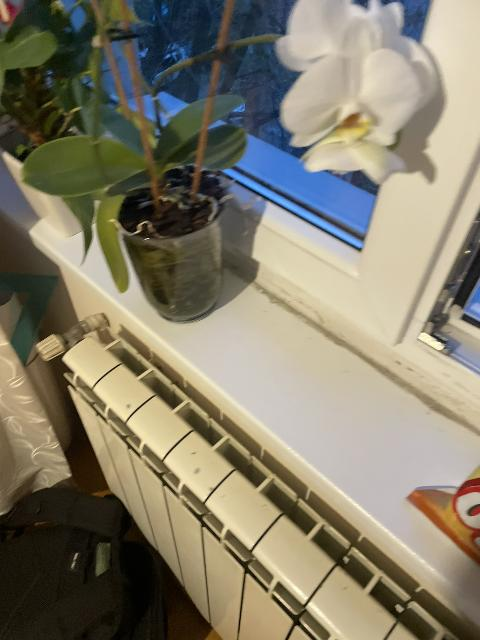Chio Cascaval 125g: (407, 457, 480, 577)
